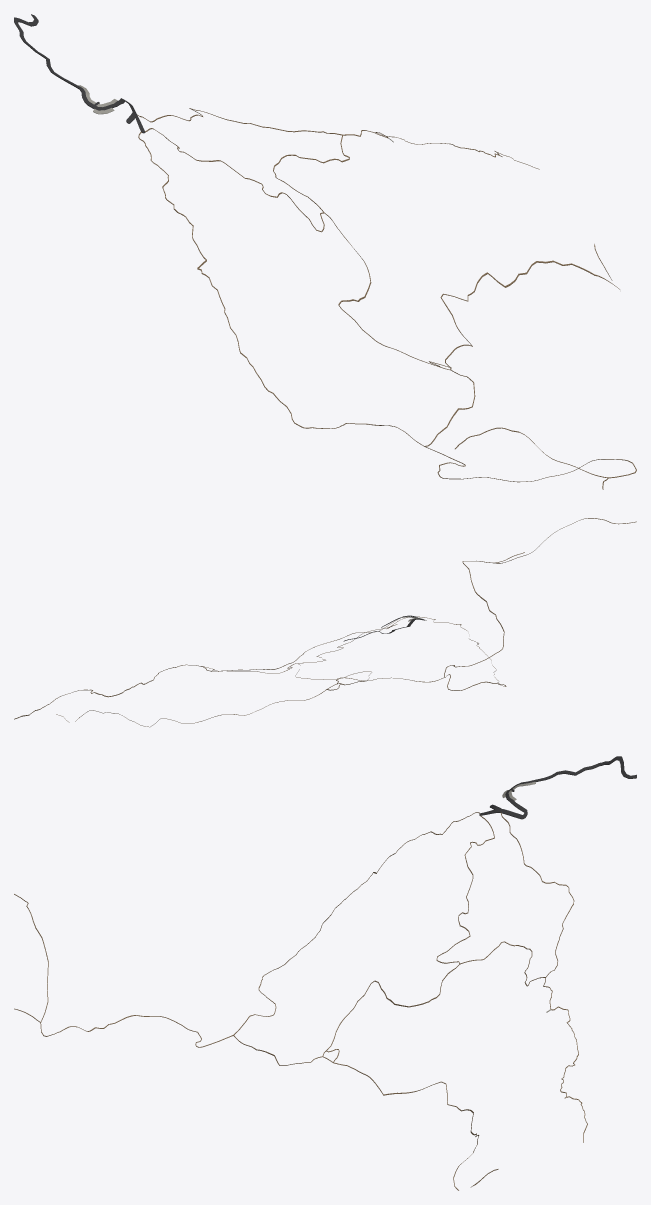
3 views of the same model, one above another, from view 1: azimuth 30°, elevation 25°; view 2: azimuth 150°, elevation 25°; view 3: azimuth 270°, elevation 25° (orthographic). The views are drawn at different scales.
Size of the model in its own units: 845 by 508 by 1167.
